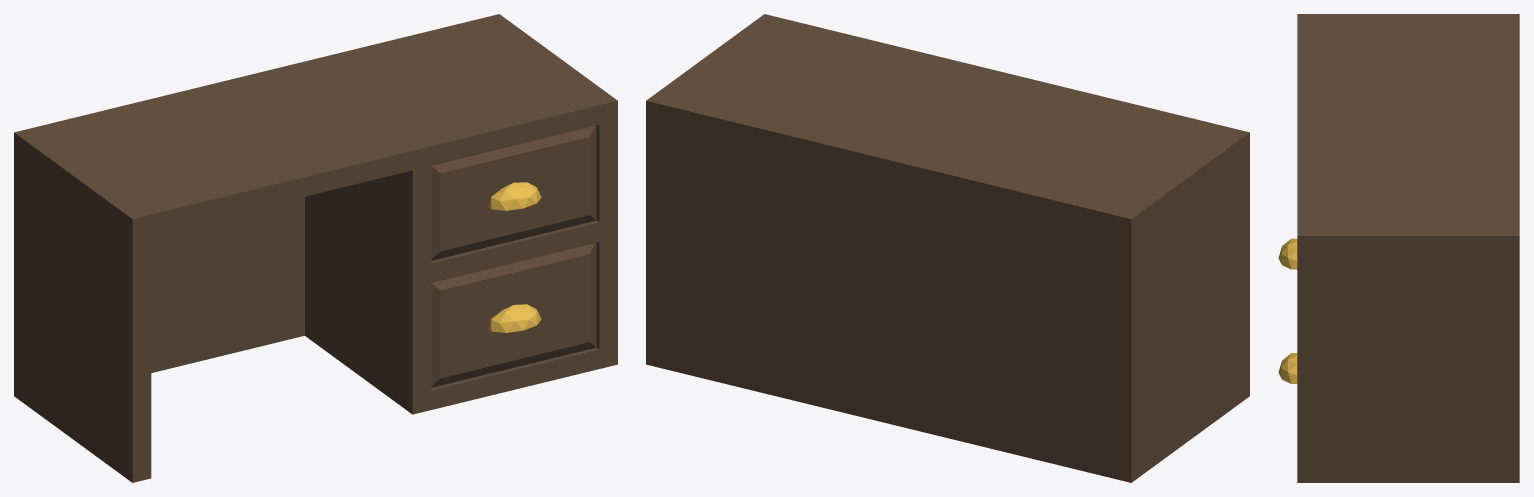
File: desk.fbx
The picture shows the model from 3 angles, left to right: view 1: azimuth 30°, elevation 25°; view 2: azimuth 150°, elevation 25°; view 3: azimuth 270°, elevation 25°; orthographic projection. The views are drawn at different scales.
Visible parts, largest first — view 1: Desk; view 2: Desk; view 3: Desk.
Boxes of the visible parts, x1=… form: Desk: x1=14, y1=14, x2=617, y2=482; Desk: x1=646, y1=14, x2=1249, y2=482; Desk: x1=1278, y1=14, x2=1519, y2=482.
Size of the model in its own units: 520 by 270 by 239.
